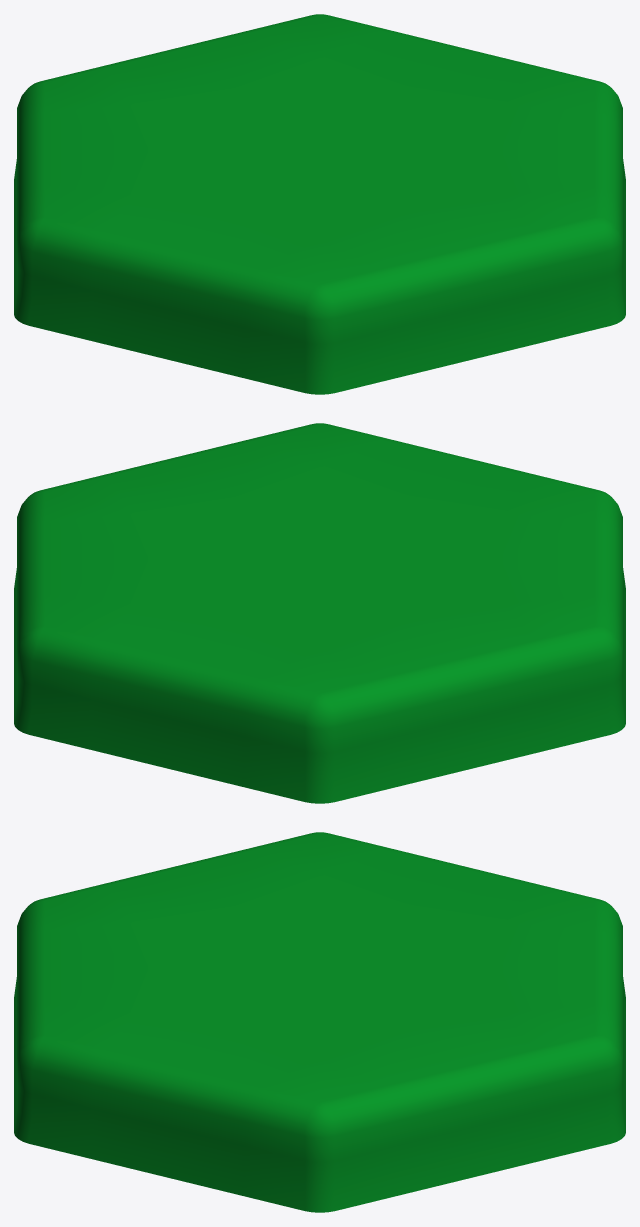
The picture shows the model from 3 angles, top to bottom: view 1: azimuth 30°, elevation 25°; view 2: azimuth 150°, elevation 25°; view 3: azimuth 270°, elevation 25°; orthographic projection.
Visible parts, largest first — view 1: Cylinder; view 2: Cylinder; view 3: Cylinder.
Boxes of the visible parts, x1,y1,x2,y2 form: Cylinder: (14, 14, 625, 394); Cylinder: (14, 423, 625, 803); Cylinder: (14, 832, 625, 1212).
Bounding box in the file's own units: 207 × 31.94 × 182.
